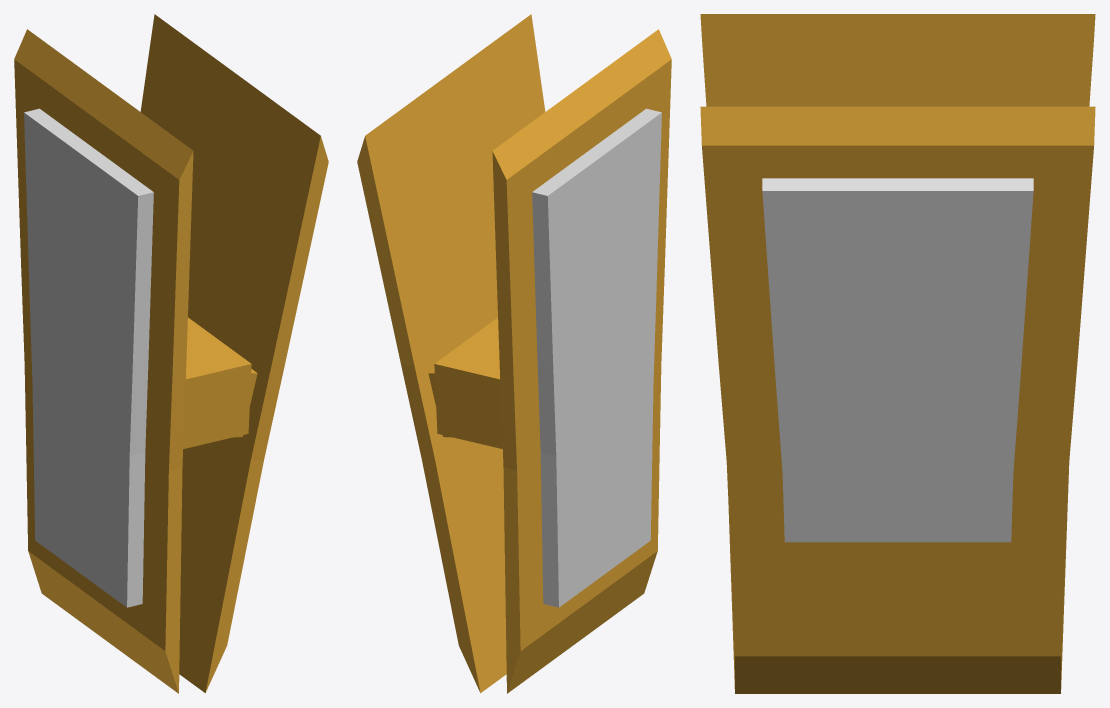
Rendered from SM_MetalClip.fbx.
The picture shows the model from 3 angles, left to right: view 1: azimuth 30°, elevation 25°; view 2: azimuth 150°, elevation 25°; view 3: azimuth 270°, elevation 25°; orthographic projection. The views are drawn at different scales.
Visible parts, largest first — view 1: SM_MetalClip; view 2: SM_MetalClip; view 3: SM_MetalClip.
Part boxes in pixels (x1,y1,x2,y2): SM_MetalClip: (14,14,328,693); SM_MetalClip: (357,14,671,693); SM_MetalClip: (700,14,1095,693).
Bounding box in the file's own units: 9.34 × 28.56 × 15.38.
